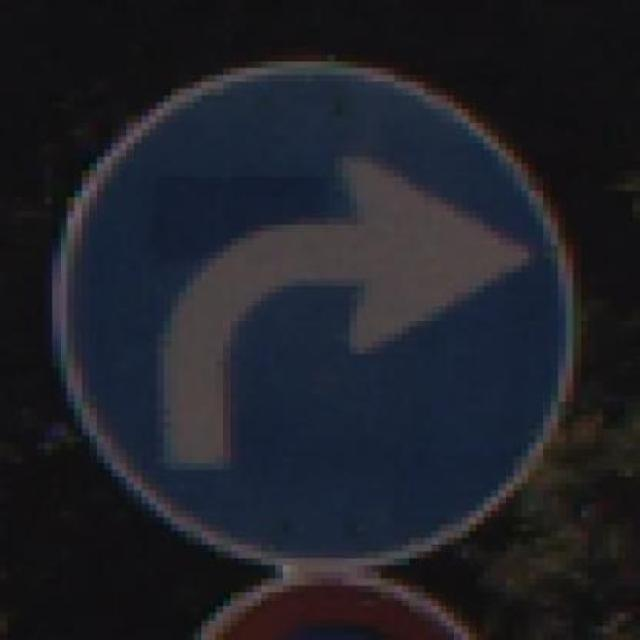Turn right ahead: (37, 61, 595, 565)
